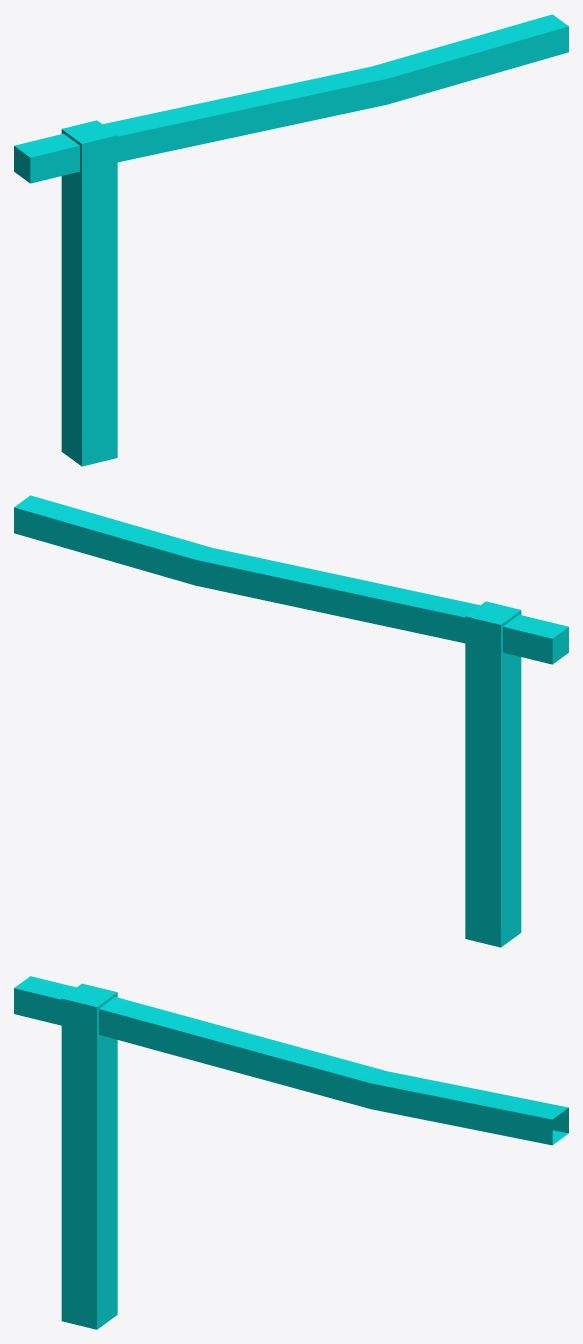
Rendered from m_supporthalf.fbx.
3 views of the same model, one above another, from view 1: azimuth 30°, elevation 25°; view 2: azimuth 150°, elevation 25°; view 3: azimuth 330°, elevation 25° (orthographic).
Visible parts, largest first — view 1: m_supporthalf; view 2: m_supporthalf; view 3: m_supporthalf.
Part boxes in pixels (bbox=[...]): m_supporthalf: bbox=[14, 14, 568, 466]; m_supporthalf: bbox=[14, 495, 568, 947]; m_supporthalf: bbox=[14, 976, 568, 1329].
Bounding box in the file's own units: 8 × 4.58 × 0.528.
